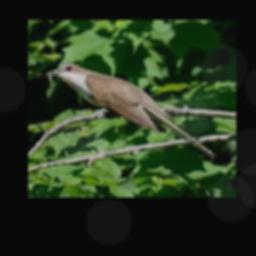Cuckoo: (46, 62, 216, 160)
